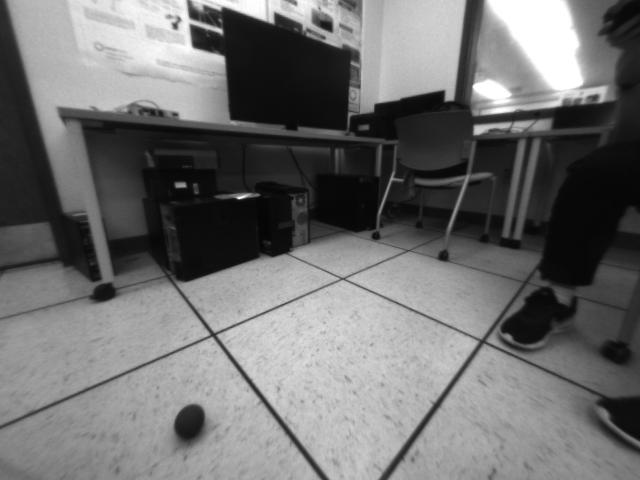dogtoy: (168, 397, 219, 445)
